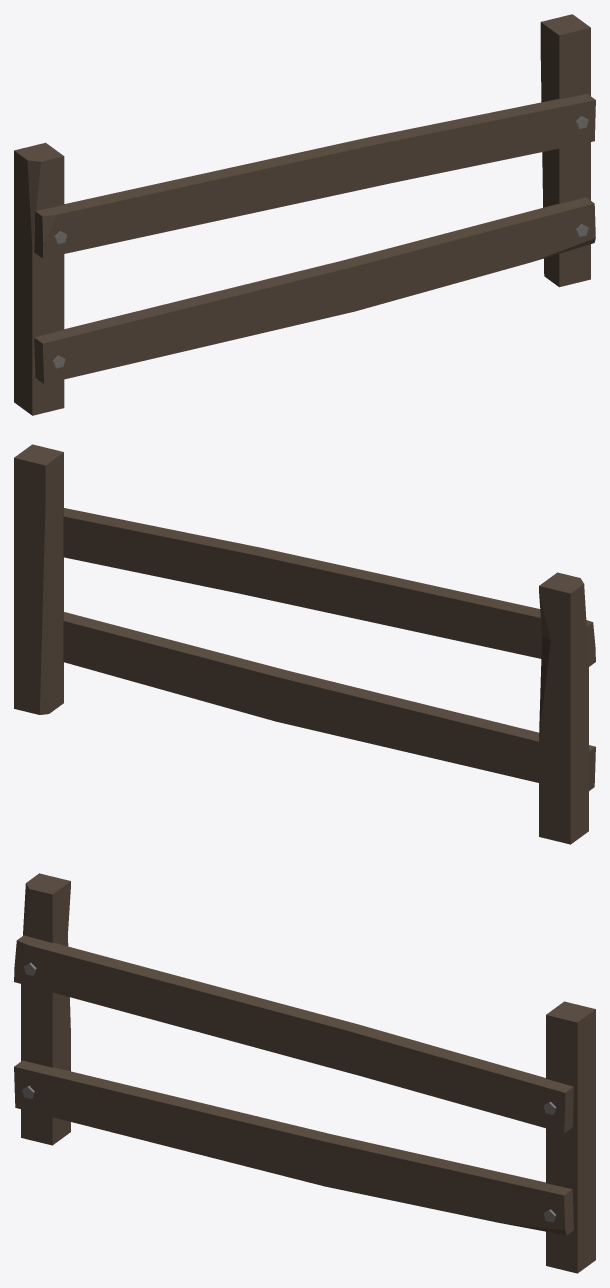
Rendered from SM_Props_Farm_Fence_Square_T1_Preset.fbx.
3 views of the same model, one above another, from view 1: azimuth 30°, elevation 25°; view 2: azimuth 150°, elevation 25°; view 3: azimuth 330°, elevation 25° (orthographic).
Visible parts, largest first — view 1: SM_Props_Farm_Fence_Square_T1_Preset; view 2: SM_Props_Farm_Fence_Square_T1_Preset; view 3: SM_Props_Farm_Fence_Square_T1_Preset.
Boxes of the visible parts, x1,y1,x2,y2 form: SM_Props_Farm_Fence_Square_T1_Preset: (14,14,595,415); SM_Props_Farm_Fence_Square_T1_Preset: (14,444,595,844); SM_Props_Farm_Fence_Square_T1_Preset: (14,873,595,1273).
Bounding box in the file's own units: 200 × 86 × 17.79.
